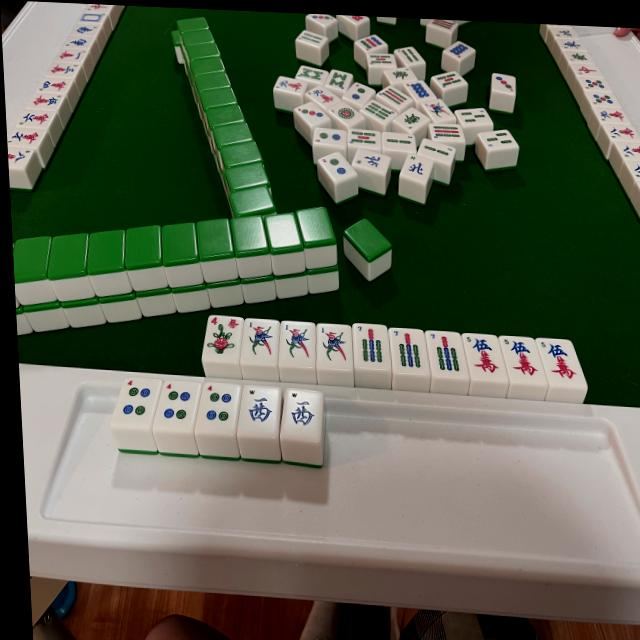ff4: (204, 314, 241, 358)
m5: (540, 339, 580, 383), (465, 333, 502, 377), (504, 335, 540, 380)
s1: (243, 318, 276, 359), (283, 321, 314, 362), (318, 325, 349, 365)
s7: (428, 330, 464, 374), (354, 323, 387, 369), (391, 328, 424, 371)
t4: (203, 382, 236, 426), (121, 376, 152, 420), (161, 380, 192, 422)
west: (287, 390, 318, 430), (246, 386, 275, 425)
